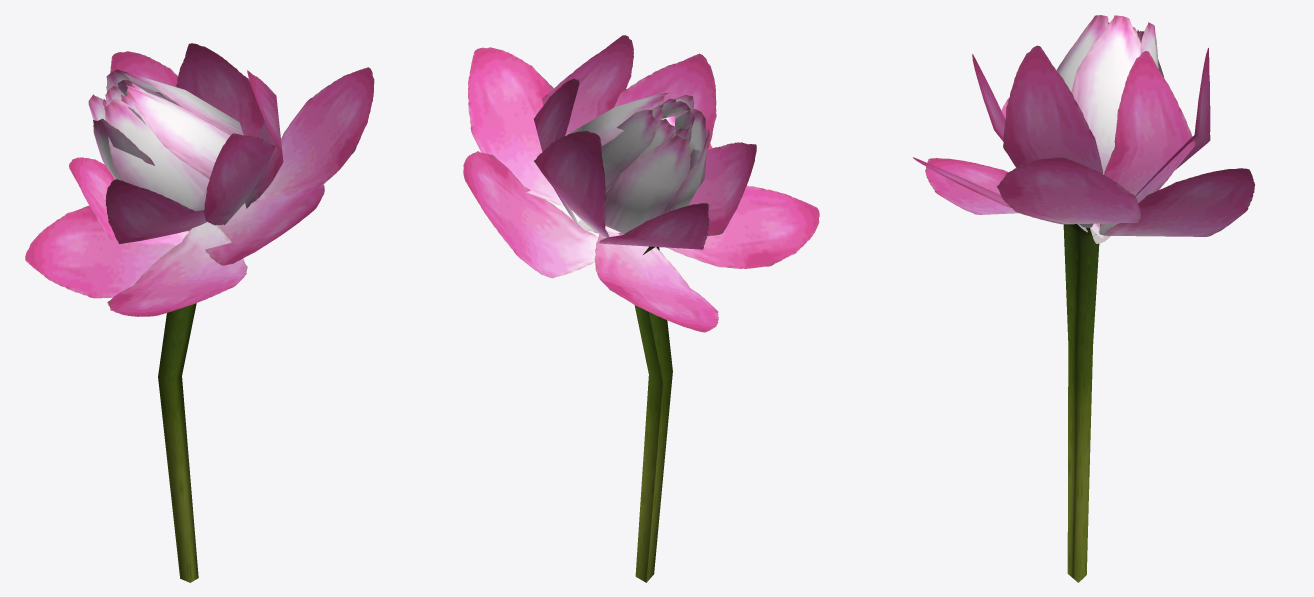
Rendered from LotusL03.FBX.
The picture shows the model from 3 angles, left to right: view 1: azimuth 30°, elevation 25°; view 2: azimuth 150°, elevation 25°; view 3: azimuth 270°, elevation 25°; orthographic projection. The views are drawn at different scales.
Visible parts, largest first — view 1: Lotus03; view 2: Lotus03; view 3: Lotus03.
Boxes of the visible parts, x1,y1,x2,y2 form: Lotus03: (25, 43, 374, 582); Lotus03: (463, 35, 819, 582); Lotus03: (913, 15, 1254, 582).
Size of the model in its own units: 104 by 102 by 154.
Materials: 1 (1 with a texture image).
